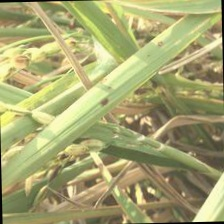Bacterial_Leaf_Blight: (95, 94, 112, 108), (148, 40, 170, 49)
